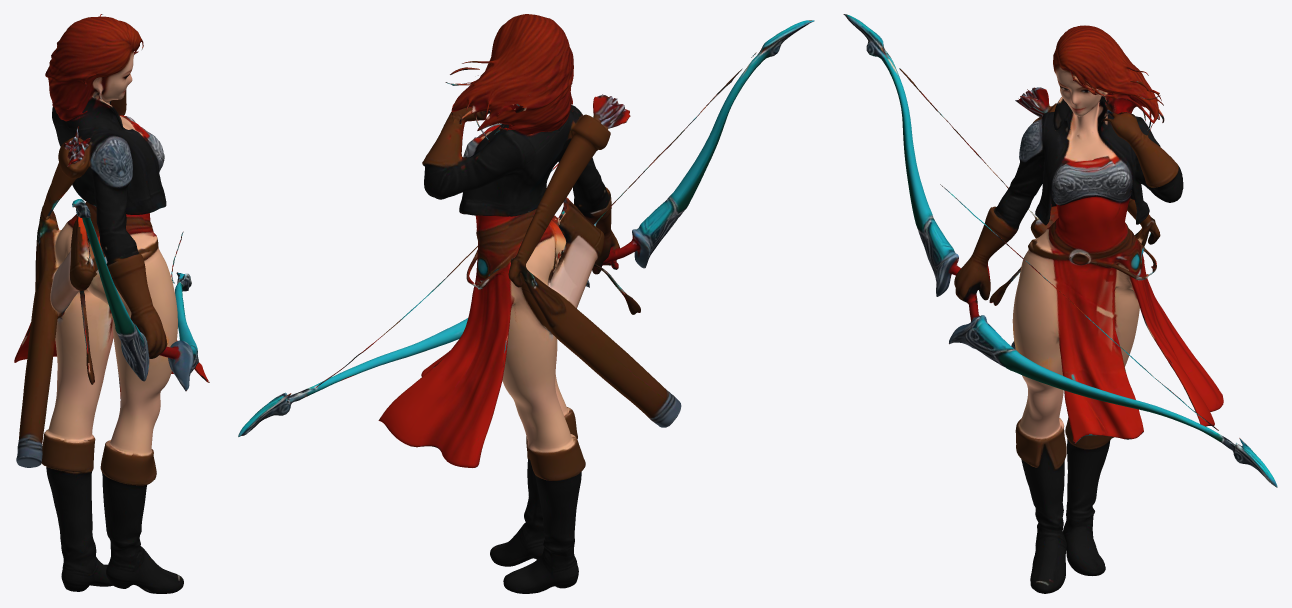
Rendered from KiraF.fbx.
3 renders of one model, left to right at view 1: azimuth 30°, elevation 25°; view 2: azimuth 150°, elevation 25°; view 3: azimuth 270°, elevation 25°, orthographic. The views are drawn at different scales.
Parts seen in each view (by area): view 1: tripo_node_72983d1b; view 2: tripo_node_72983d1b; view 3: tripo_node_72983d1b.
Part boxes in pixels (left/top/right/bottom): tripo_node_72983d1b: left=14, top=14, right=209, bottom=593; tripo_node_72983d1b: left=238, top=14, right=814, bottom=593; tripo_node_72983d1b: left=843, top=14, right=1277, bottom=593.
Bounding box in the file's own units: 0.6386 × 0.9997 × 0.7335.
Materials: 1 (1 with a texture image).
